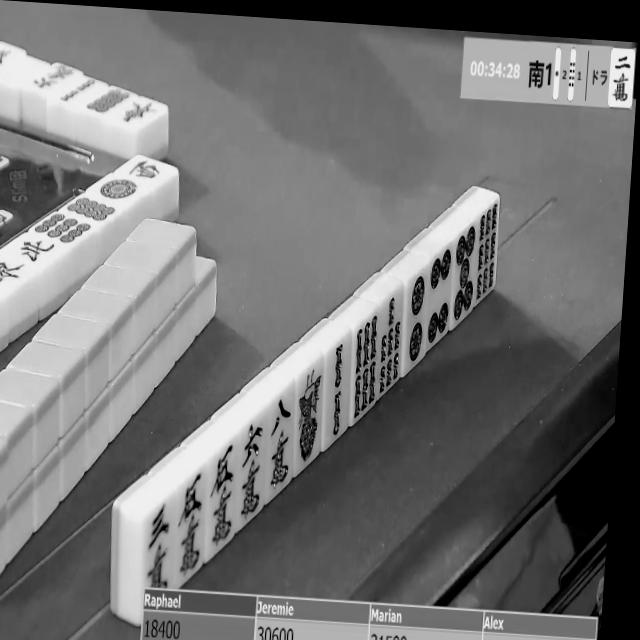m2: (609, 49, 635, 106)
m3: (144, 499, 178, 588)
m5: (175, 471, 208, 581), (206, 439, 239, 549)
m6: (236, 414, 267, 521)
m8: (263, 391, 300, 498)
s1: (294, 362, 325, 471)
s2: (321, 337, 354, 446)
s6: (349, 309, 382, 419)
s7: (378, 292, 409, 398)
s9: (474, 197, 501, 307)
t2: (402, 267, 429, 374)
t4: (425, 245, 455, 348)
t5: (451, 224, 480, 329)
